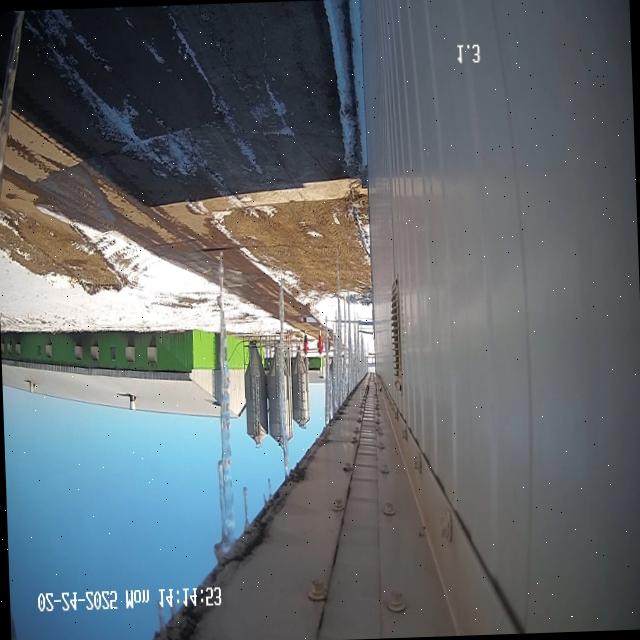Red uniform: (317, 330, 323, 356), (303, 332, 308, 356)
